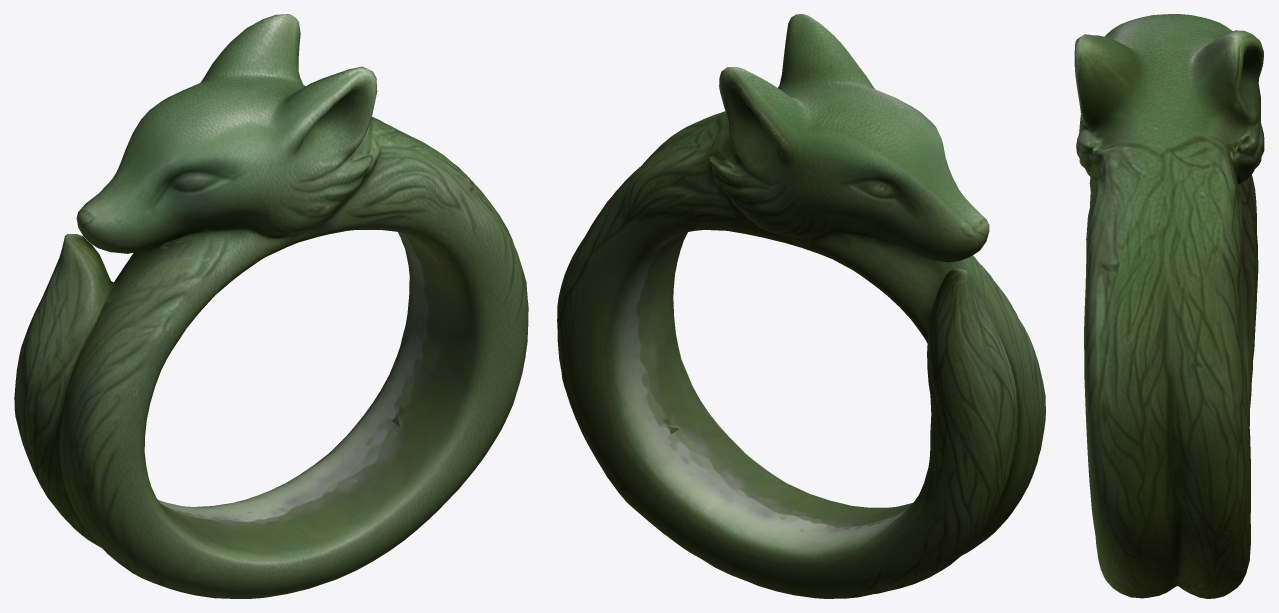
Rendered from Ring.fbx.
The picture shows the model from 3 angles, left to right: view 1: azimuth 30°, elevation 25°; view 2: azimuth 150°, elevation 25°; view 3: azimuth 270°, elevation 25°; orthographic projection. The views are drawn at different scales.
Visible parts, largest first — view 1: material_0; view 2: material_0; view 3: material_0.
Part boxes in pixels (x1,y1,x2,y2): material_0: (14, 14, 528, 598); material_0: (557, 14, 1045, 598); material_0: (1074, 14, 1264, 598).
Size of the model in its own units: 90.87 by 100 by 31.08.
1 material, 1 textured.
